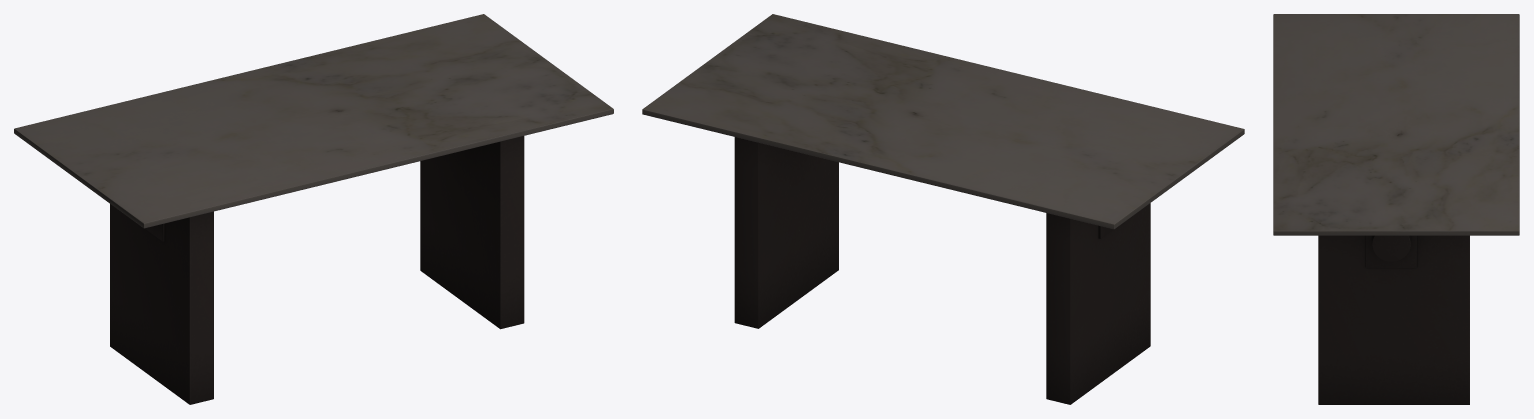
File: table_dining_table_square_e7d63c96-91b8-5a4f-b562-fb10a0174244.glb
3 views of the same model, side by side, from view 1: azimuth 30°, elevation 25°; view 2: azimuth 150°, elevation 25°; view 3: azimuth 270°, elevation 25° (orthographic). The views are drawn at different scales.
Visible parts, largest first — view 1: raw_model.obj; view 2: raw_model.obj; view 3: raw_model.obj.
Part boxes in pixels (bbox=[...]): raw_model.obj: bbox=[14, 14, 613, 404]; raw_model.obj: bbox=[642, 14, 1244, 404]; raw_model.obj: bbox=[1273, 14, 1519, 404].
Size of the model in its own units: 1.78 by 0.7809 by 0.8514.
Materials: 1 (1 with a texture image).
